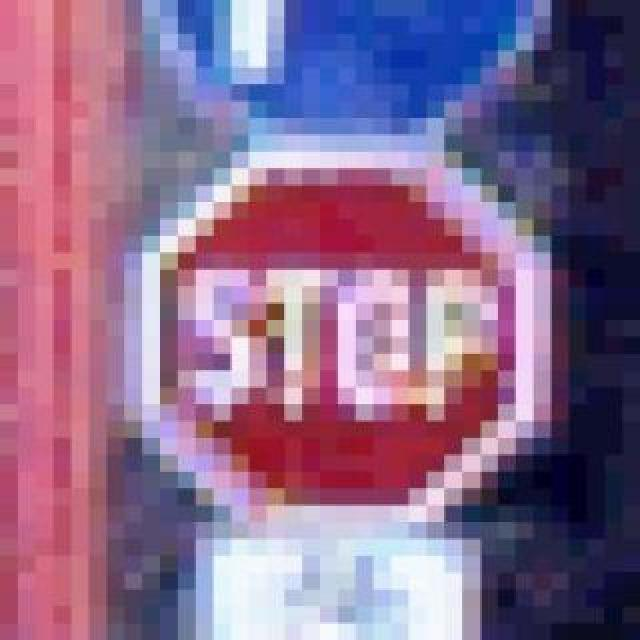stop: (108, 118, 534, 538)
